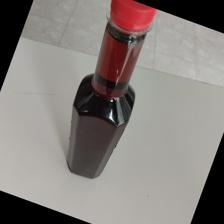Namngu: (66, 1, 158, 179)
